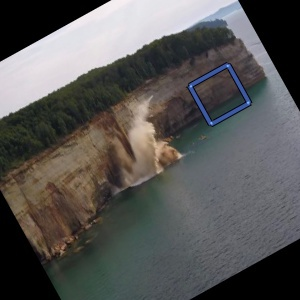square: (186, 62, 253, 127)
